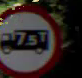Heavy Vehicles: (1, 4, 63, 76)
